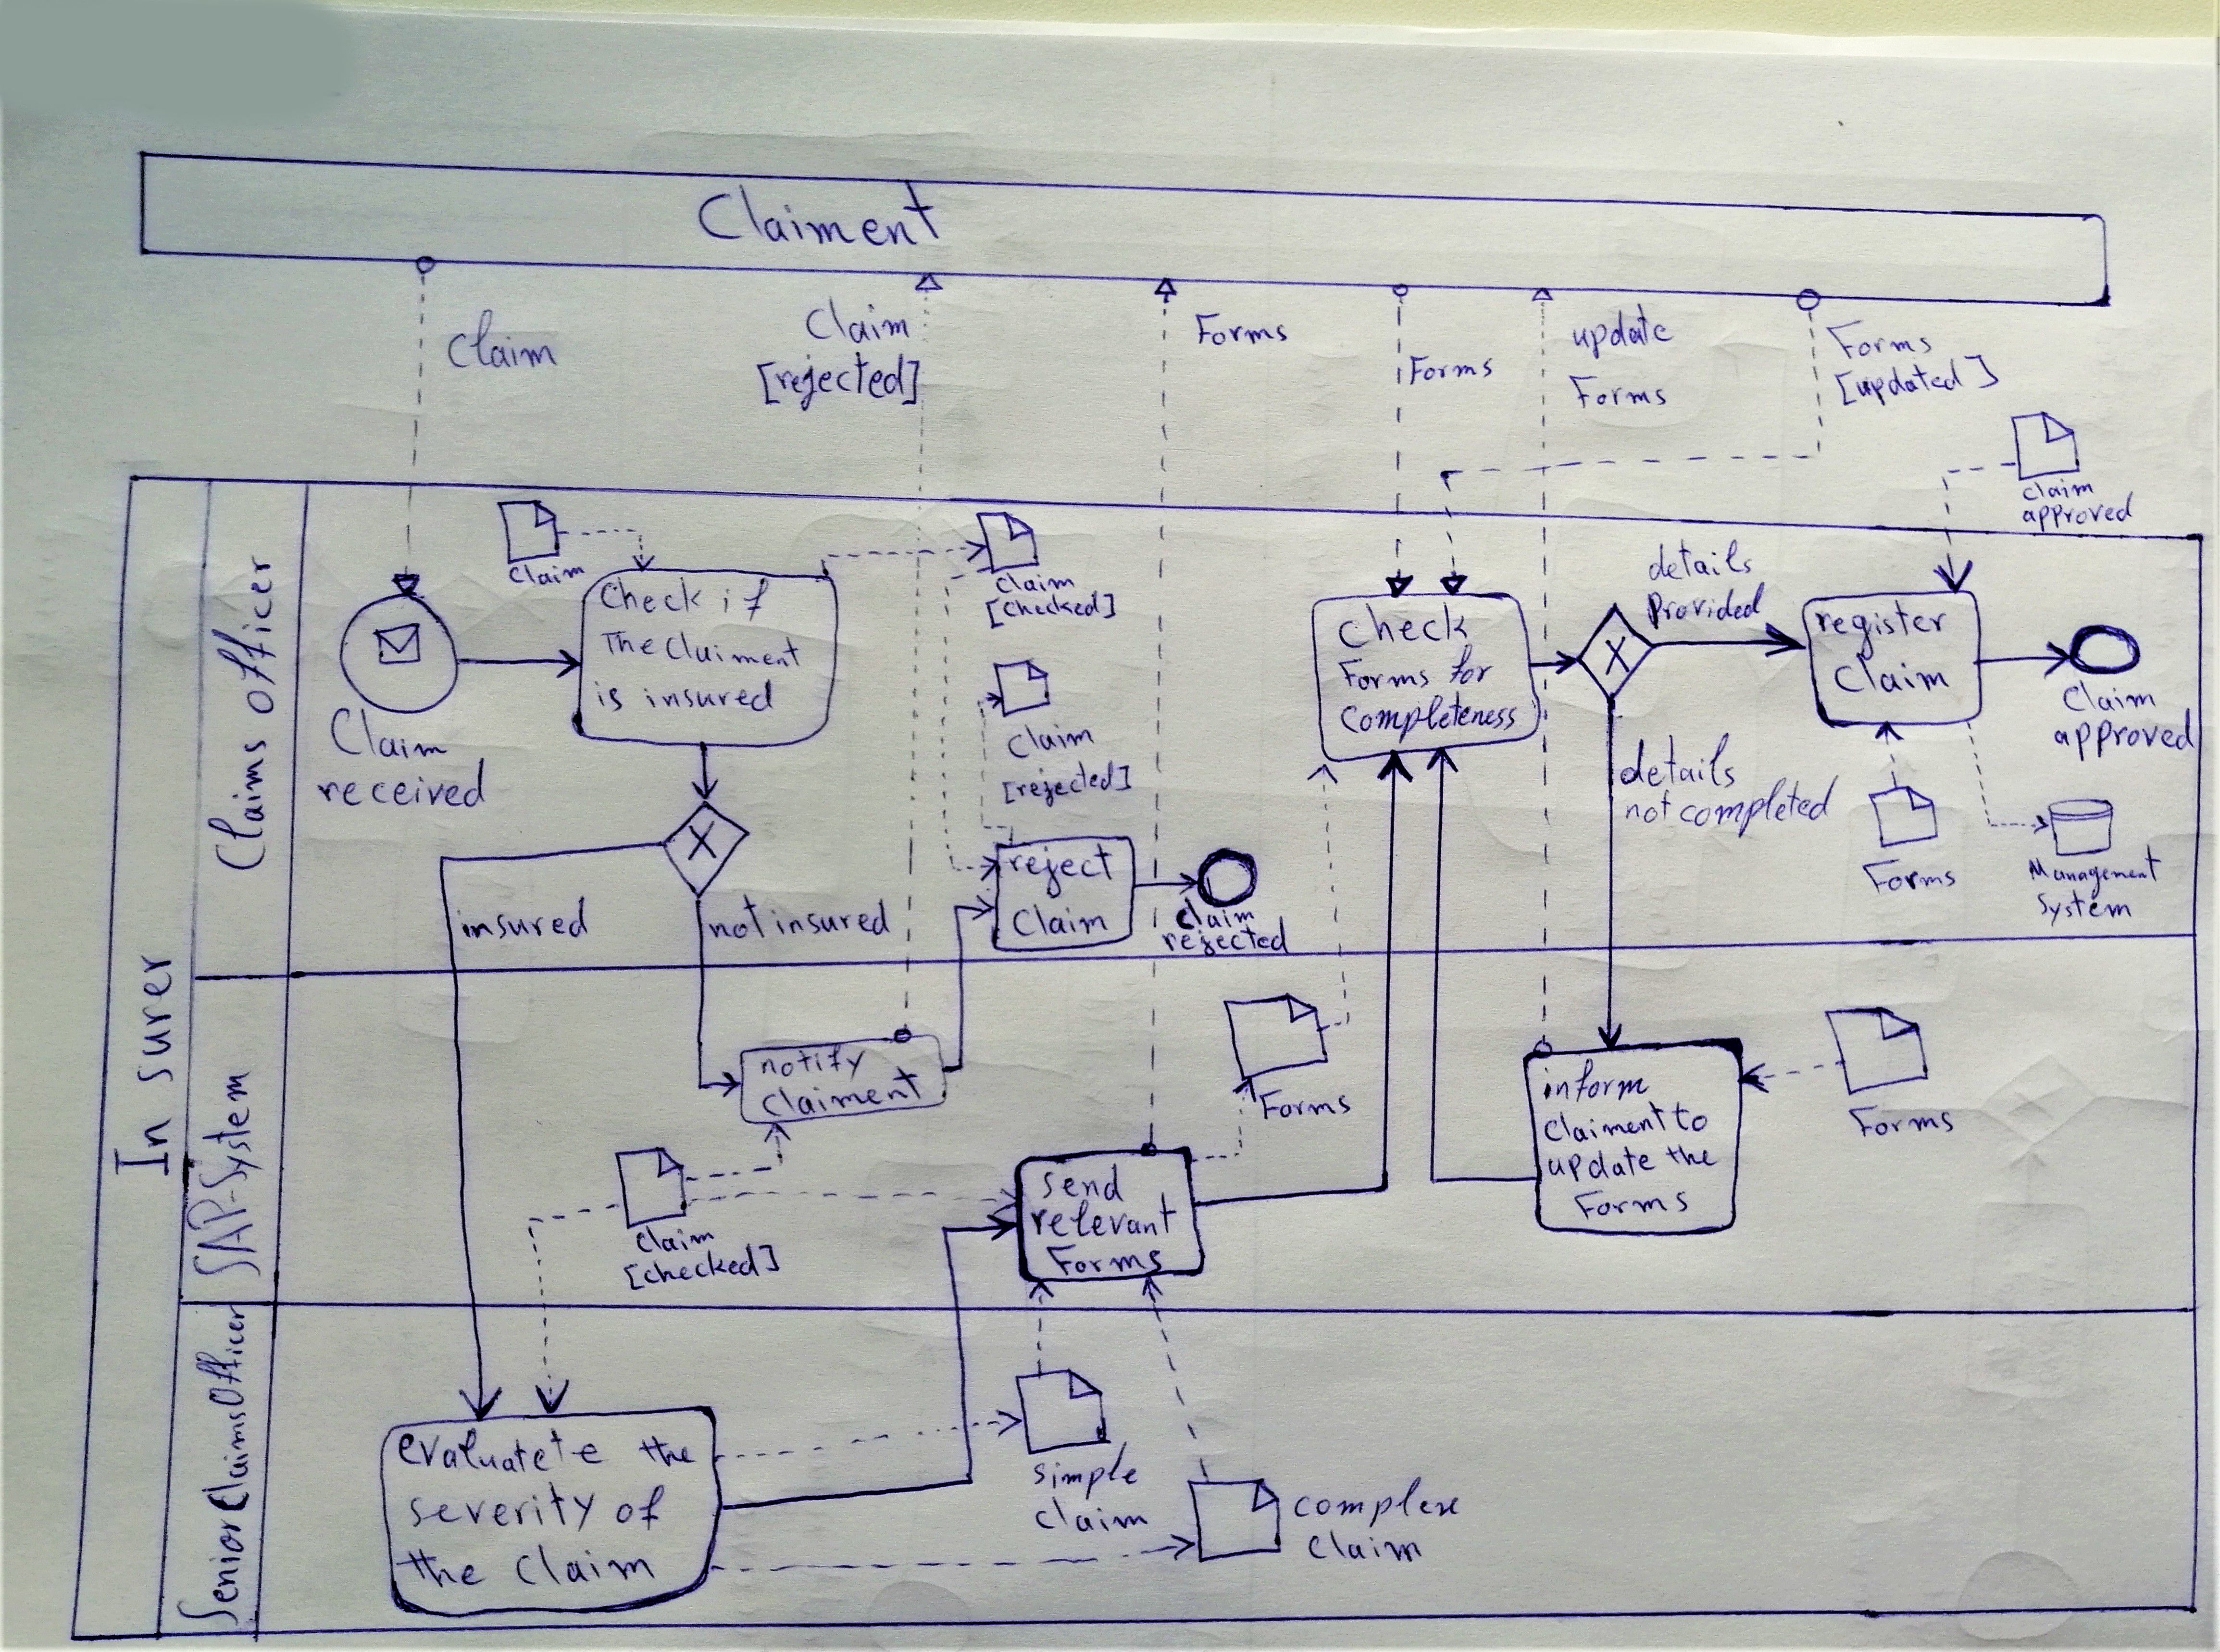Check: (1341, 602, 1471, 656), (600, 576, 706, 619)
Claim: (335, 713, 447, 765), (803, 302, 914, 349), (1006, 717, 1098, 764), (1013, 899, 1110, 939), (2062, 680, 2156, 718), (512, 559, 590, 592)
Claiment: (706, 187, 945, 252), (760, 1069, 921, 1118), (661, 628, 800, 673), (1542, 1104, 1665, 1149)
Claims: (212, 729, 276, 873), (198, 1409, 251, 1513)
Completeness: (1337, 696, 1519, 741)
Forms: (1837, 314, 1946, 363), (1337, 652, 1438, 698), (1049, 1244, 1166, 1281), (1851, 1104, 1956, 1144), (1577, 1187, 1691, 1222), (1403, 352, 1500, 392), (1190, 311, 1287, 351), (1259, 1088, 1355, 1124), (1868, 861, 1960, 897)
Insurer: (114, 937, 177, 1183)
Management: (2031, 855, 2163, 887)
Officer: (198, 1307, 246, 1406)
Provided: (1639, 587, 1767, 635)
SAP-System: (187, 1064, 269, 1288)
Senior: (182, 1518, 262, 1628)
Simple: (1030, 1451, 1141, 1492)
System: (2034, 892, 2132, 925)
The: (598, 625, 657, 665)
[checked]: (623, 1244, 791, 1288), (1001, 590, 1096, 628)
[rejected]: (997, 758, 1134, 814), (767, 357, 886, 408)
[updated]: (1849, 357, 1972, 410)
approved: (2055, 711, 2194, 753), (2021, 496, 2138, 531)
claim: (447, 307, 558, 383), (512, 1548, 656, 1591), (1304, 1529, 1429, 1565), (1838, 658, 1949, 696), (1035, 1503, 1152, 1536), (1172, 899, 1263, 935), (635, 1222, 718, 1260), (994, 571, 1075, 602), (2022, 477, 2093, 507)
completed: (1675, 779, 1837, 833)
complex: (1290, 1484, 1462, 1525)
details: (1625, 746, 1740, 795), (1648, 536, 1752, 583)
evaluatete: (394, 1430, 624, 1475)
for: (1443, 649, 1497, 692)
forms: (1570, 375, 1668, 415)
if: (711, 580, 772, 623)
inform: (1533, 1064, 1651, 1107)
insured: (458, 901, 591, 947), (638, 680, 772, 715), (767, 901, 891, 937)
is: (588, 677, 633, 715)
not: (711, 909, 763, 946), (1622, 793, 1668, 833)
notify: (760, 1048, 874, 1083)
of: (612, 1485, 666, 1532)
officer: (220, 550, 283, 718)
received: (321, 776, 487, 814)
register: (1812, 604, 1951, 642)
reject: (1002, 843, 1120, 892)
rejected: (1164, 925, 1289, 956)
relevant: (1028, 1201, 1185, 1242)
send: (1037, 1170, 1126, 1206)
severity: (402, 1485, 607, 1534)
the: (402, 1546, 487, 1590), (633, 1433, 697, 1473), (1662, 1138, 1722, 1178)
to: (1672, 1100, 1714, 1138)
update: (1564, 307, 1674, 364), (1549, 1144, 1658, 1183)
